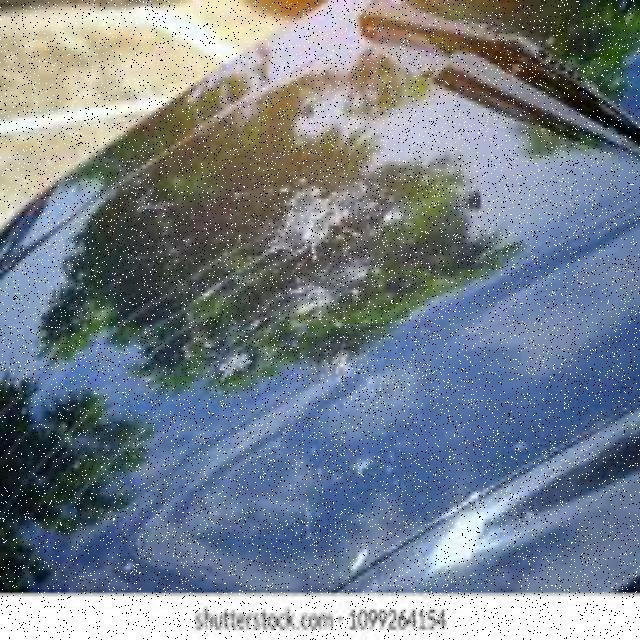bonnet-dent: (0, 68, 608, 607)
